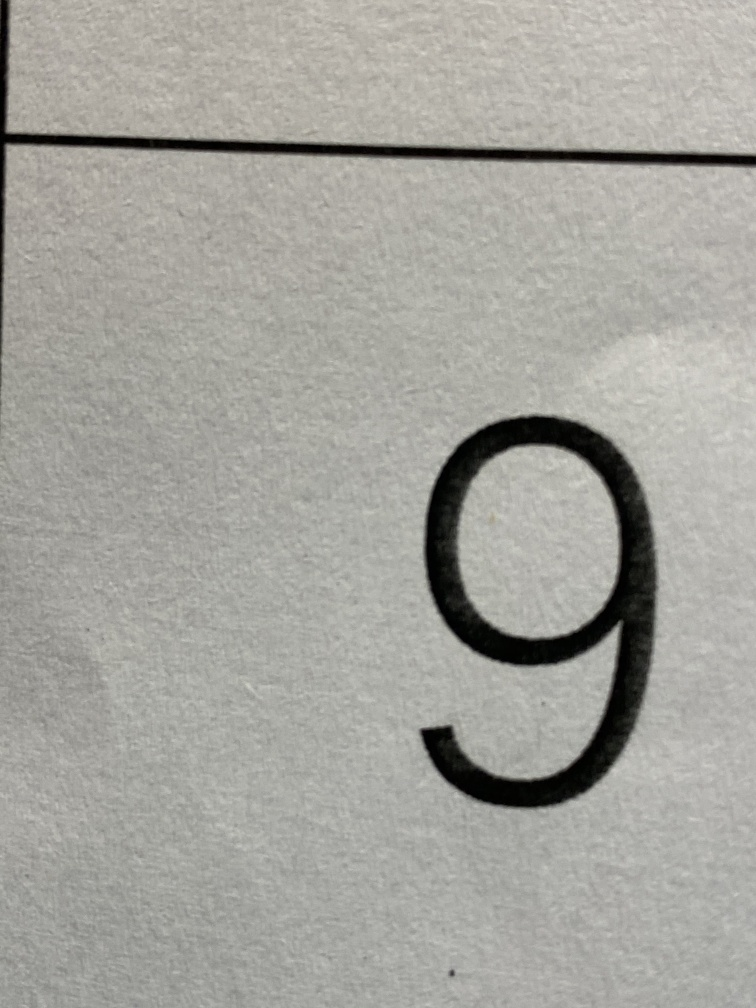nine: (351, 359, 718, 884)
